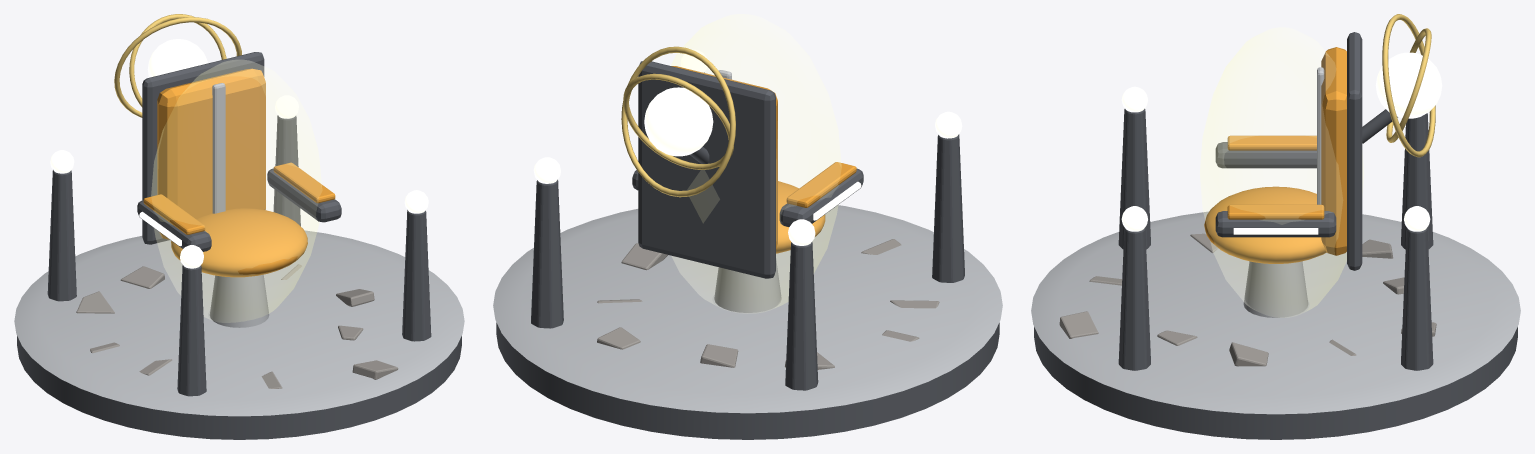
Rendered from GravityTrainingChair.fbx.
3 renders of one model, left to right at view 1: azimuth 30°, elevation 25°; view 2: azimuth 150°, elevation 25°; view 3: azimuth 270°, elevation 25°, orthographic. The views are drawn at different scales.
Visible parts, largest first — view 1: Platform_Ring, Aura, Back, Platform, Seat, Back_Plate, Pylon_4, Pylon_3, Pylon_2, Pedestal, Back_Stripe, Pylon_1 (+15 smaller); view 2: Platform_Ring, Back_Plate, Aura, Platform, Pylon_2, Pylon_1, Pylon_3, KiCore, Pedestal, KiOrbit_2, KiOrbit_1, Armrest_Pad_L (+8 smaller); view 3: Platform_Ring, Aura, Platform, Back, Seat, Pylon_1, Pylon_4, Back_Plate, Pedestal, Pylon_3, KiCore, Pylon_2 (+15 smaller).
Boxes of the visible parts, x1,y1,x2,y2 form: Platform_Ring: (14, 230, 464, 416); Aura: (151, 60, 321, 322); Back: (157, 68, 265, 239); Platform: (17, 336, 461, 439); Seat: (171, 208, 307, 277); Back_Plate: (142, 52, 264, 244); Pylon_4: (402, 210, 431, 341); Pylon_3: (177, 265, 206, 396); Pylon_2: (47, 170, 76, 301); Pedestal: (209, 274, 269, 327); Back_Stripe: (212, 83, 225, 213); Pylon_1: (273, 115, 300, 226); Platform_Ring: (493, 205, 1002, 413); Back_Plate: (638, 61, 775, 278); Aura: (671, 14, 841, 312); Platform: (496, 322, 999, 439); Pylon_2: (785, 242, 818, 390); Pylon_1: (531, 179, 563, 328); Pylon_3: (932, 134, 964, 282); KiCore: (644, 87, 713, 156); Pedestal: (714, 258, 781, 312); KiOrbit_2: (621, 46, 735, 197); KiOrbit_1: (623, 73, 733, 169); Armrest_Pad_L: (786, 162, 856, 207); Platform_Ring: (1031, 211, 1520, 414); Aura: (1200, 27, 1363, 317); Platform: (1034, 327, 1517, 439); Back: (1321, 47, 1346, 255); Seat: (1204, 186, 1326, 263); Pylon_1: (1401, 228, 1433, 370); Pylon_4: (1118, 228, 1150, 370); Back_Plate: (1347, 32, 1362, 270); Pedestal: (1243, 261, 1308, 317); Pylon_3: (1118, 108, 1150, 249); KiCore: (1375, 52, 1442, 118); Pylon_2: (1401, 113, 1433, 249).
Bounding box in the file's own units: 8.1 × 5.76 × 8.1.
